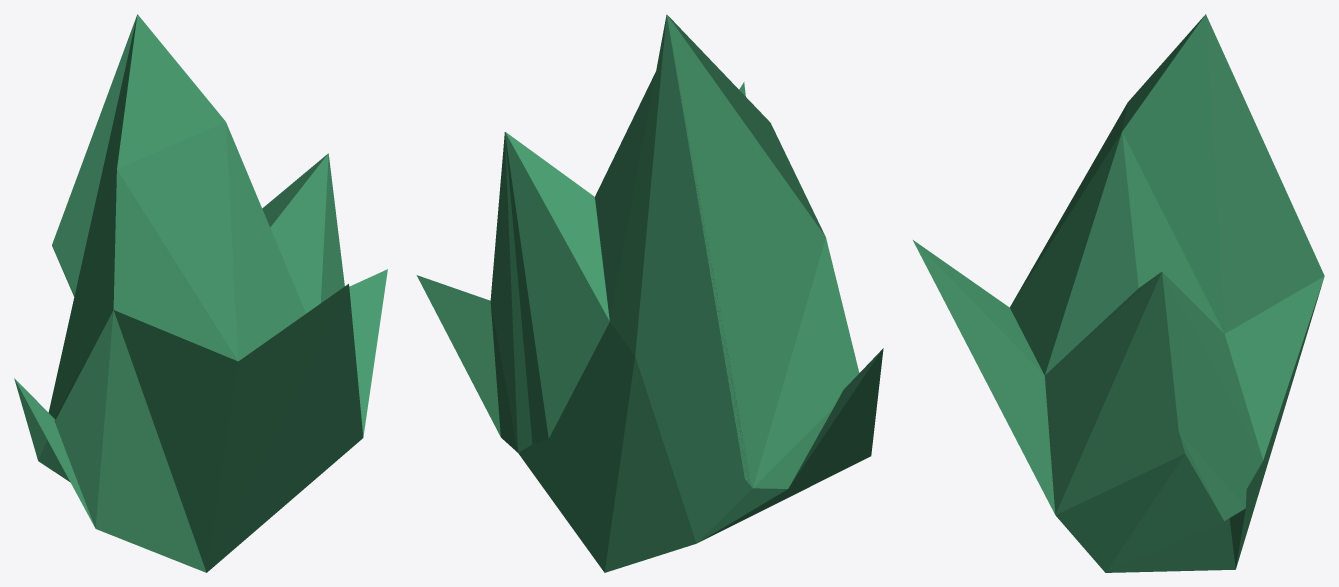
File: bush5.fbx
3 views of the same model, side by side, from view 1: azimuth 30°, elevation 25°; view 2: azimuth 150°, elevation 25°; view 3: azimuth 270°, elevation 25° (orthographic). The views are drawn at different scales.
Visible parts, largest first — view 1: bush5; view 2: bush5; view 3: bush5.
Part boxes in pixels (x1,y1,x2,y2): bush5: (14,14,387,572); bush5: (416,14,883,572); bush5: (913,14,1324,572).
Size of the model in its own units: 107 by 134 by 91.65.
